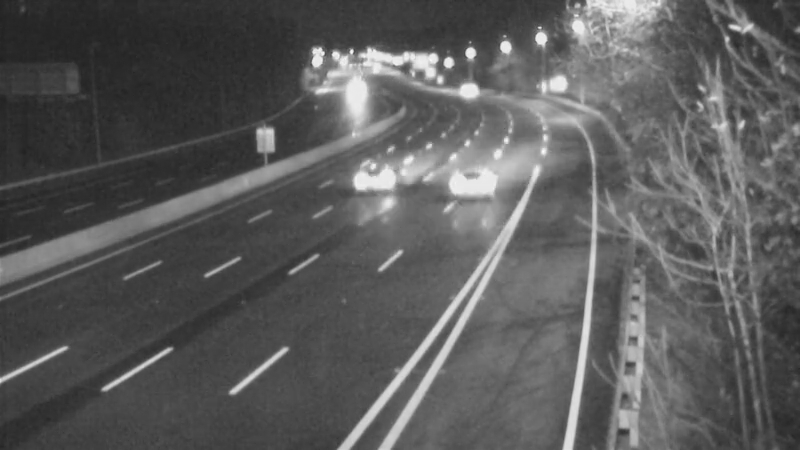vehicle: (435, 137, 515, 217), (333, 143, 413, 223), (442, 65, 492, 115), (327, 67, 377, 117)
